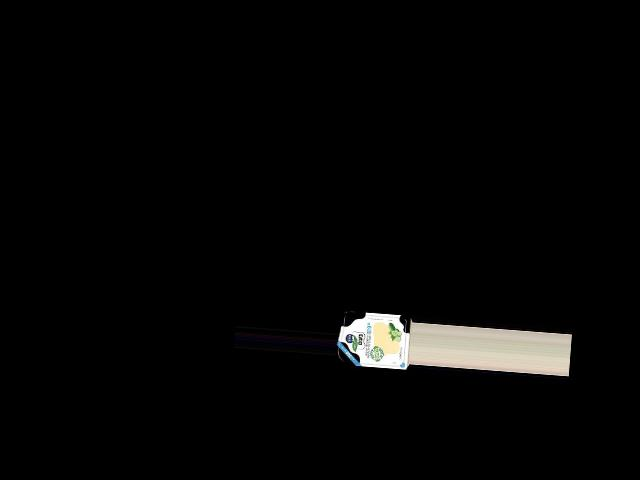cheese: (336, 307, 413, 373)
